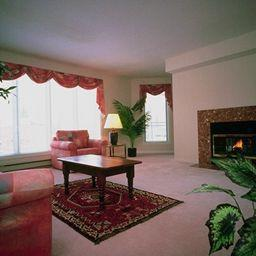Matera: (117, 100, 147, 155)
